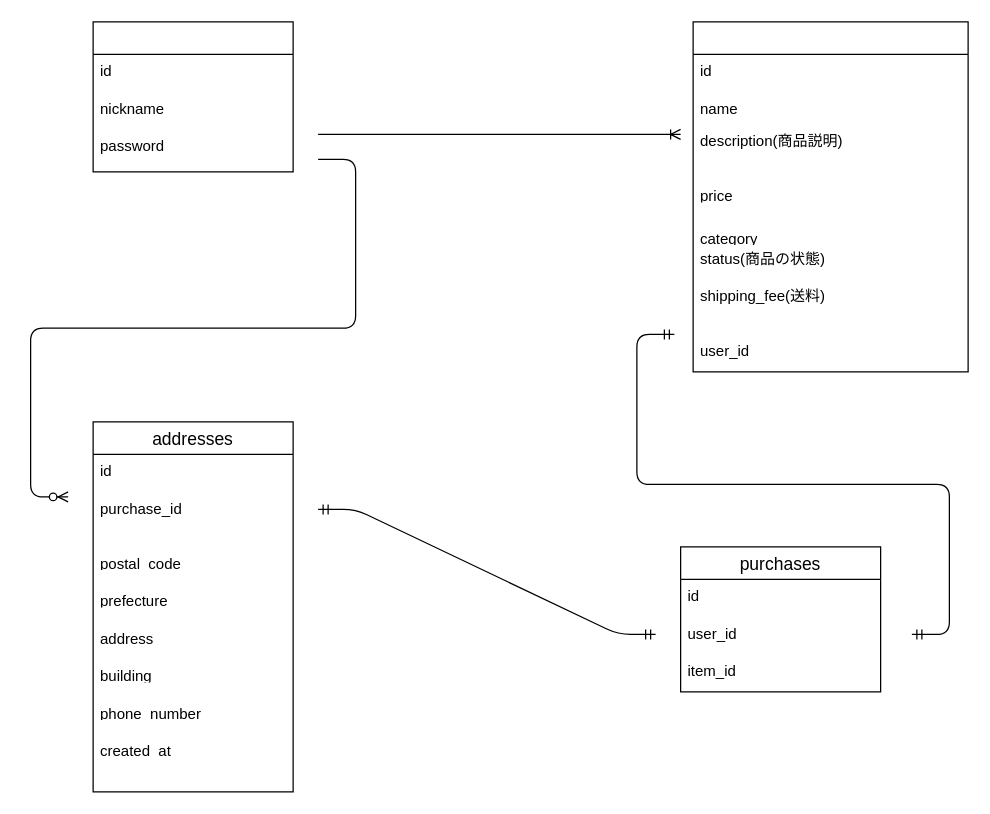
Some shapes in this 990 by 814 pixel diagram are drawn without their labels. The box of each missing label's shape, as (x1, y1, x2, y2) in pixels:
items: (692, 21, 968, 372)
users: (92, 21, 293, 172)
